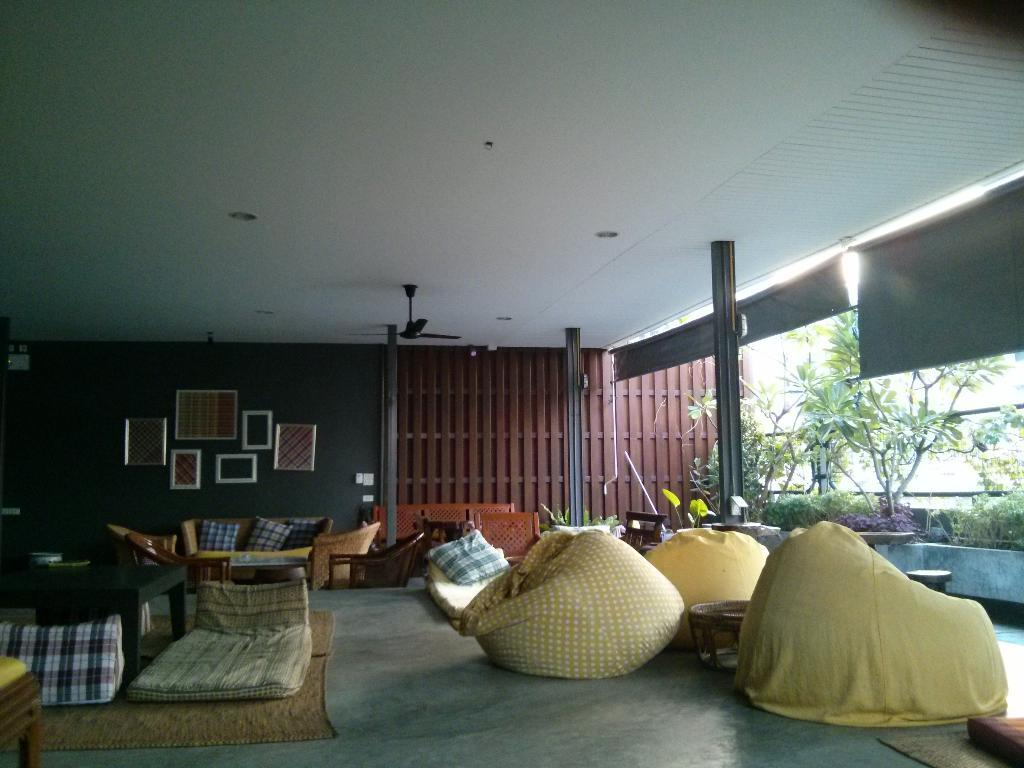Chair: (132, 529, 230, 596), (330, 529, 425, 588), (310, 519, 388, 588), (477, 506, 544, 570), (110, 525, 181, 563), (616, 512, 664, 554), (426, 519, 474, 549)
